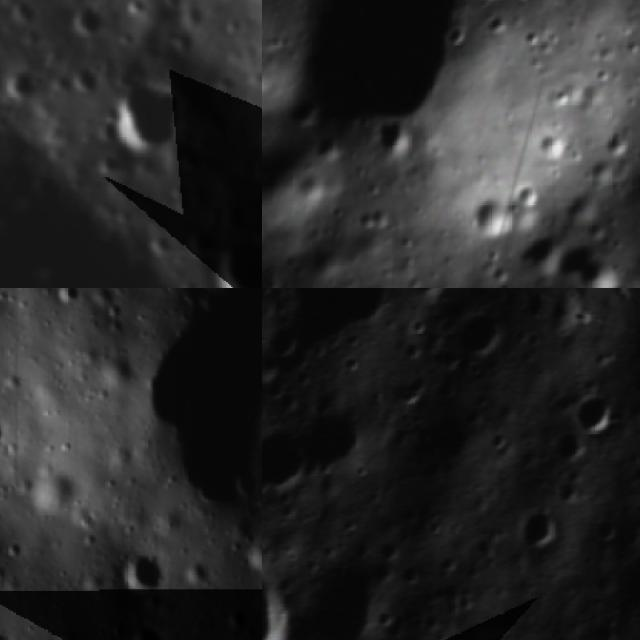crater: (274, 0, 475, 165), (130, 288, 262, 517), (295, 545, 401, 640), (289, 398, 382, 496), (95, 72, 184, 162), (559, 383, 635, 451), (443, 301, 512, 373), (262, 425, 316, 512), (262, 557, 313, 640), (551, 238, 632, 288), (458, 181, 518, 247), (530, 427, 596, 482), (510, 504, 567, 560), (113, 542, 169, 598), (210, 228, 262, 288), (370, 112, 423, 168), (262, 314, 314, 371), (66, 4, 113, 46), (0, 66, 46, 108), (108, 613, 167, 640), (186, 220, 221, 263), (92, 352, 132, 388), (69, 60, 101, 104), (240, 533, 262, 577), (182, 558, 210, 590), (222, 602, 249, 632), (0, 536, 23, 563), (85, 288, 116, 308), (51, 288, 80, 308)
